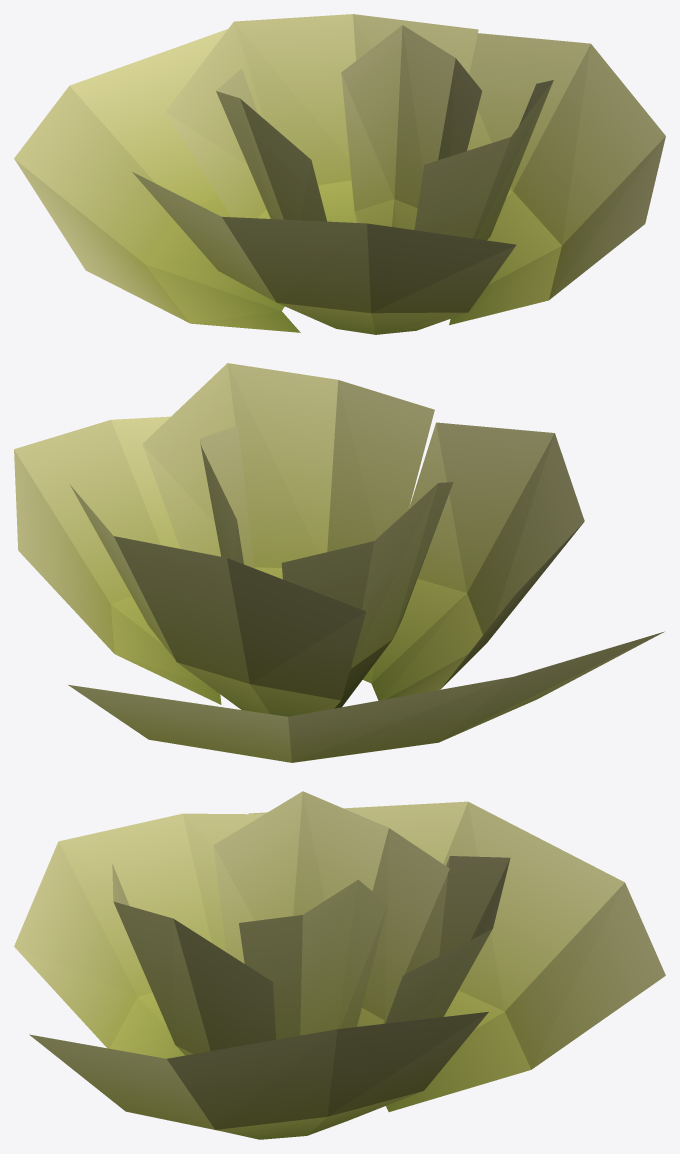
The model's file is coral-lettuce.glb.
3 views of the same model, one above another, from view 1: azimuth 30°, elevation 25°; view 2: azimuth 150°, elevation 25°; view 3: azimuth 270°, elevation 25° (orthographic). The views are drawn at different scales.
Visible parts, largest first — view 1: coral-lettuce_mesh; view 2: coral-lettuce_mesh; view 3: coral-lettuce_mesh.
Part boxes in pixels (<box>): coral-lettuce_mesh: <box>14,14,665,334</box>; coral-lettuce_mesh: <box>14,363,664,762</box>; coral-lettuce_mesh: <box>14,791,665,1139</box>.
Size of the model in its own units: 0.7635 by 0.331 by 0.7487.
